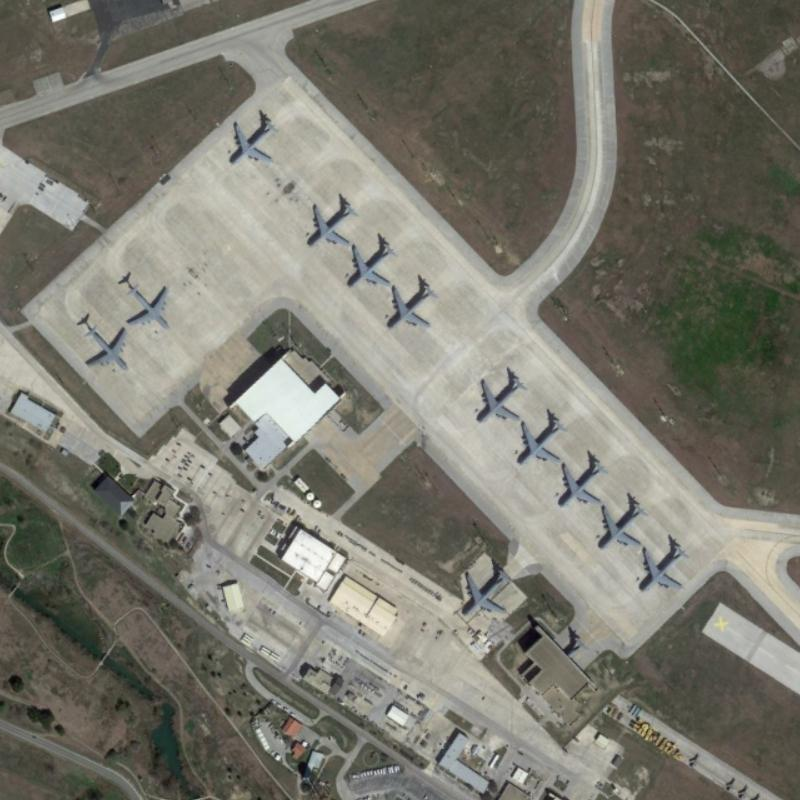A4: (633, 536, 691, 598), (591, 496, 652, 553), (382, 273, 439, 333), (513, 408, 570, 468), (555, 450, 612, 509), (471, 367, 527, 426), (459, 558, 512, 620), (223, 111, 280, 168), (303, 194, 359, 251), (343, 237, 398, 293), (80, 321, 132, 375), (122, 279, 172, 332)
